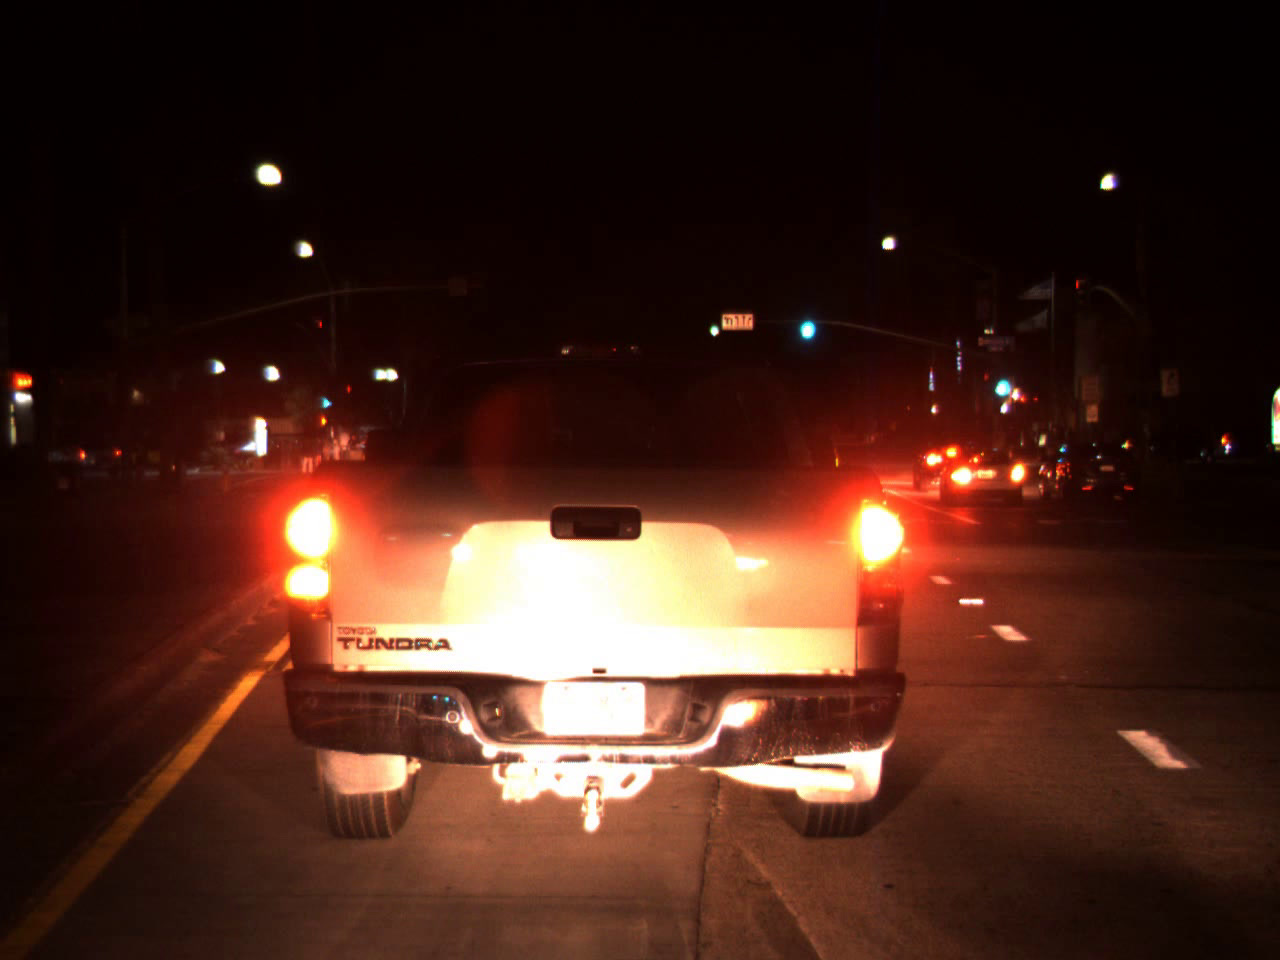go: (794, 298, 817, 346), (990, 358, 1013, 403), (703, 315, 722, 339), (319, 389, 333, 410)
